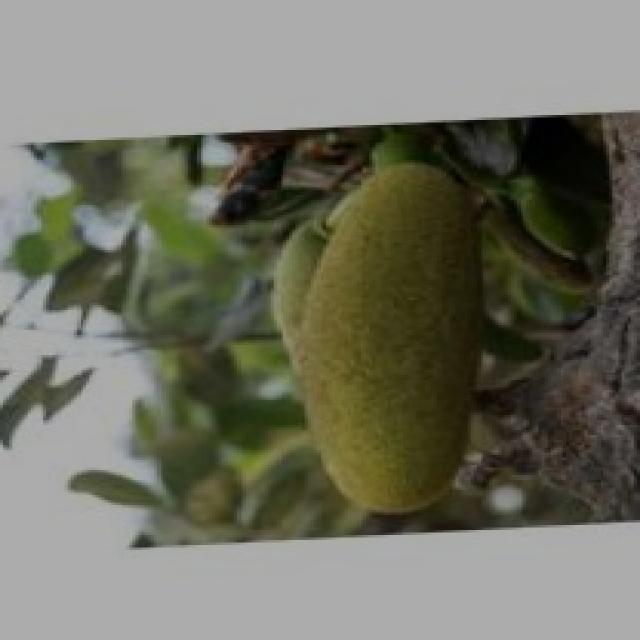Fruit: (234, 137, 526, 515)
